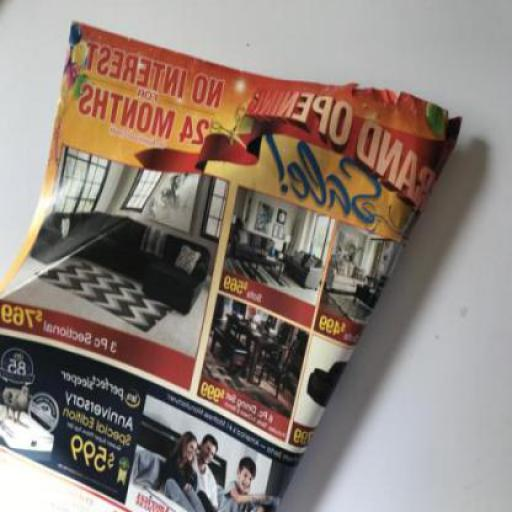paper: (0, 22, 462, 511)
